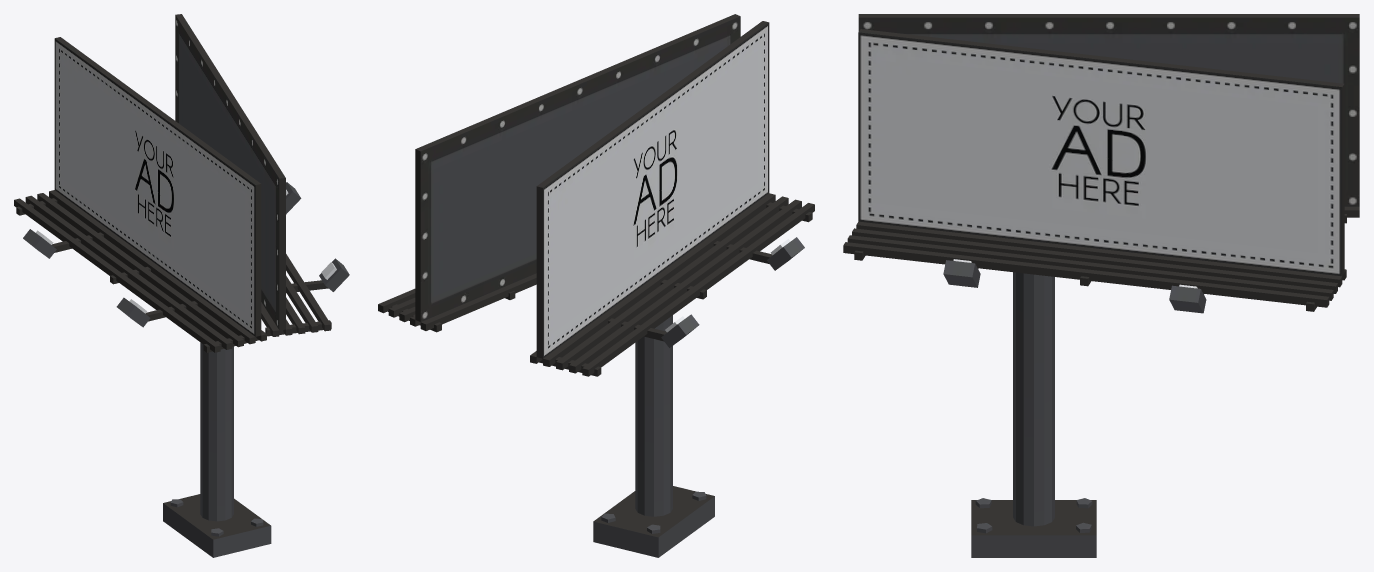
Rendered from 2Kl87jaGQEB.glb.
3 renders of one model, left to right at view 1: azimuth 30°, elevation 25°; view 2: azimuth 150°, elevation 25°; view 3: azimuth 270°, elevation 25°, orthographic. The views are drawn at different scales.
Parts seen in each view (by area): view 1: Billboard_2; view 2: Billboard_2; view 3: Billboard_2.
Part boxes in pixels (box(x1,y1,x2,y2)): Billboard_2: box(14, 14, 349, 557); Billboard_2: box(378, 14, 814, 557); Billboard_2: box(843, 14, 1359, 557).
Size of the model in its own units: 0.6571 by 1 by 0.923.
Materials: 1 (1 with a texture image).
